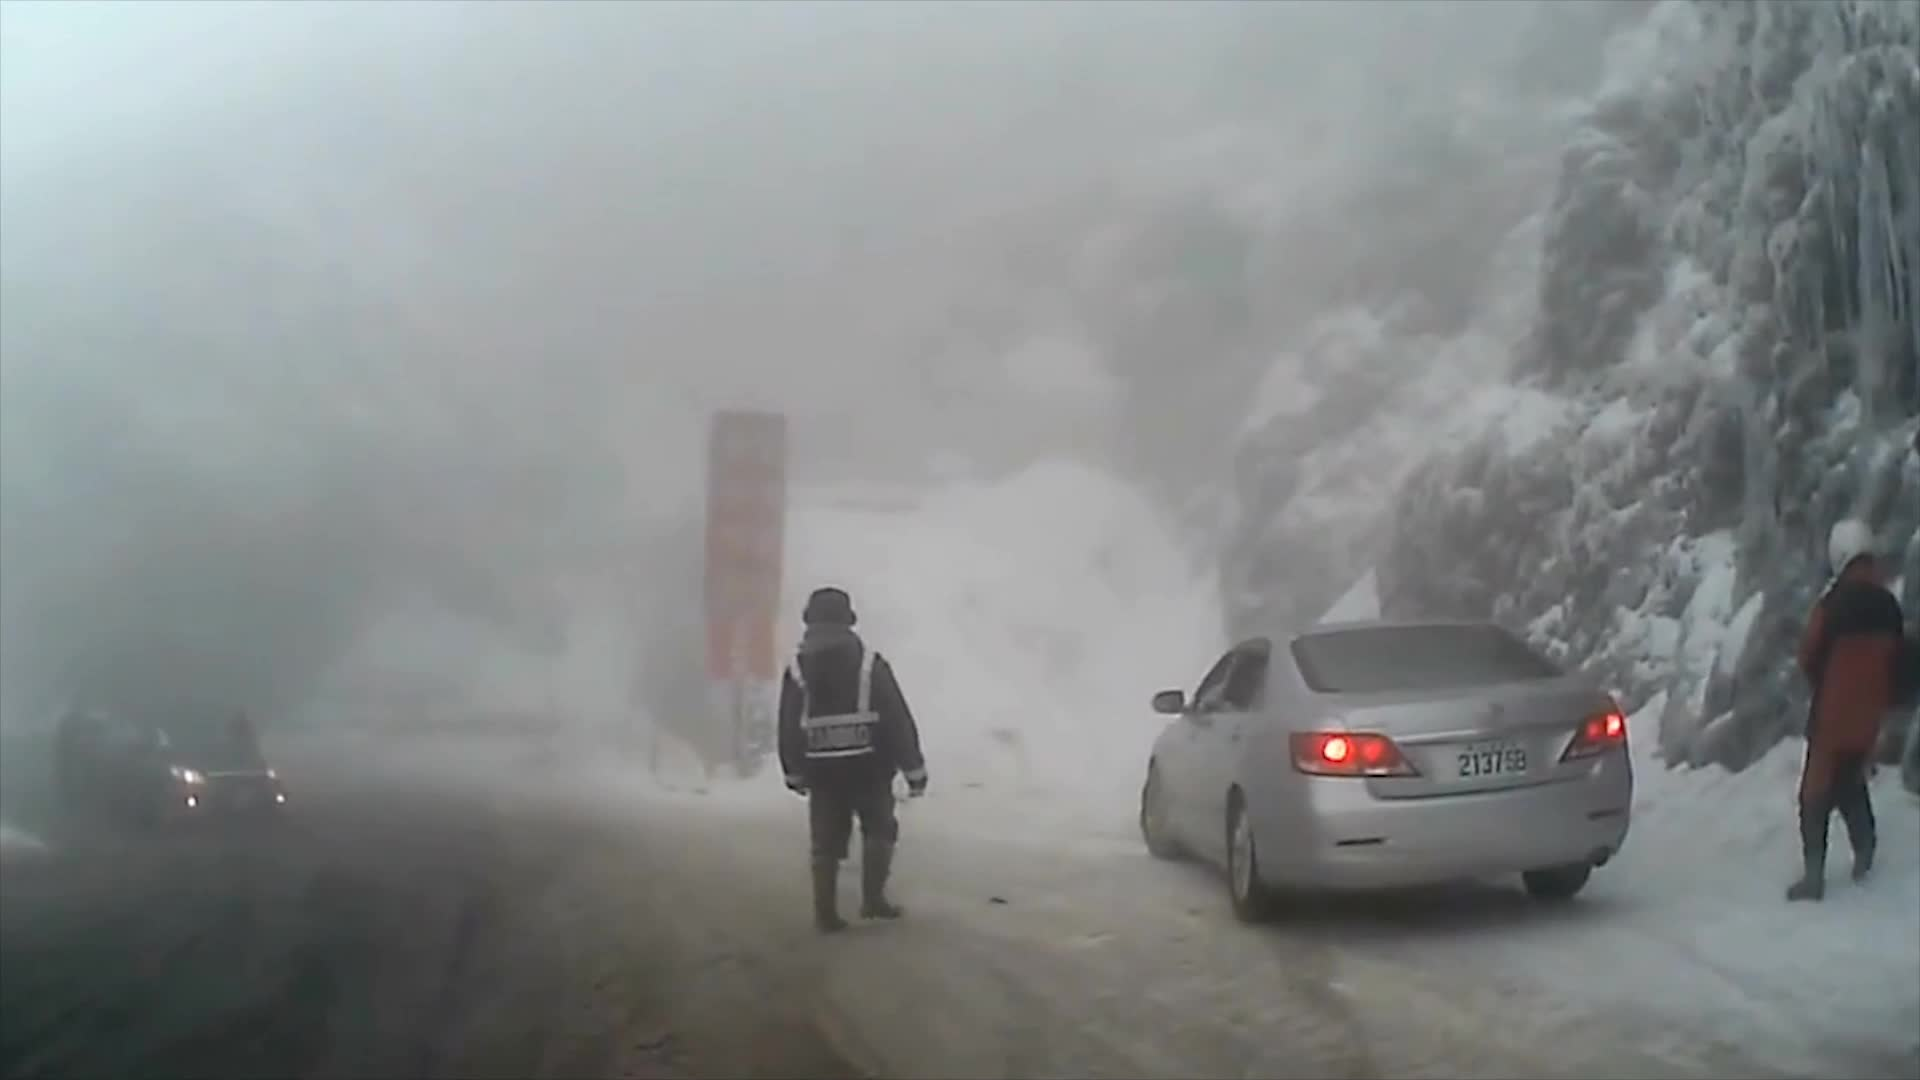pedestrian: (775, 587, 932, 936), (1786, 516, 1910, 903)
vehicle: (1135, 623, 1631, 929), (69, 700, 281, 833)
